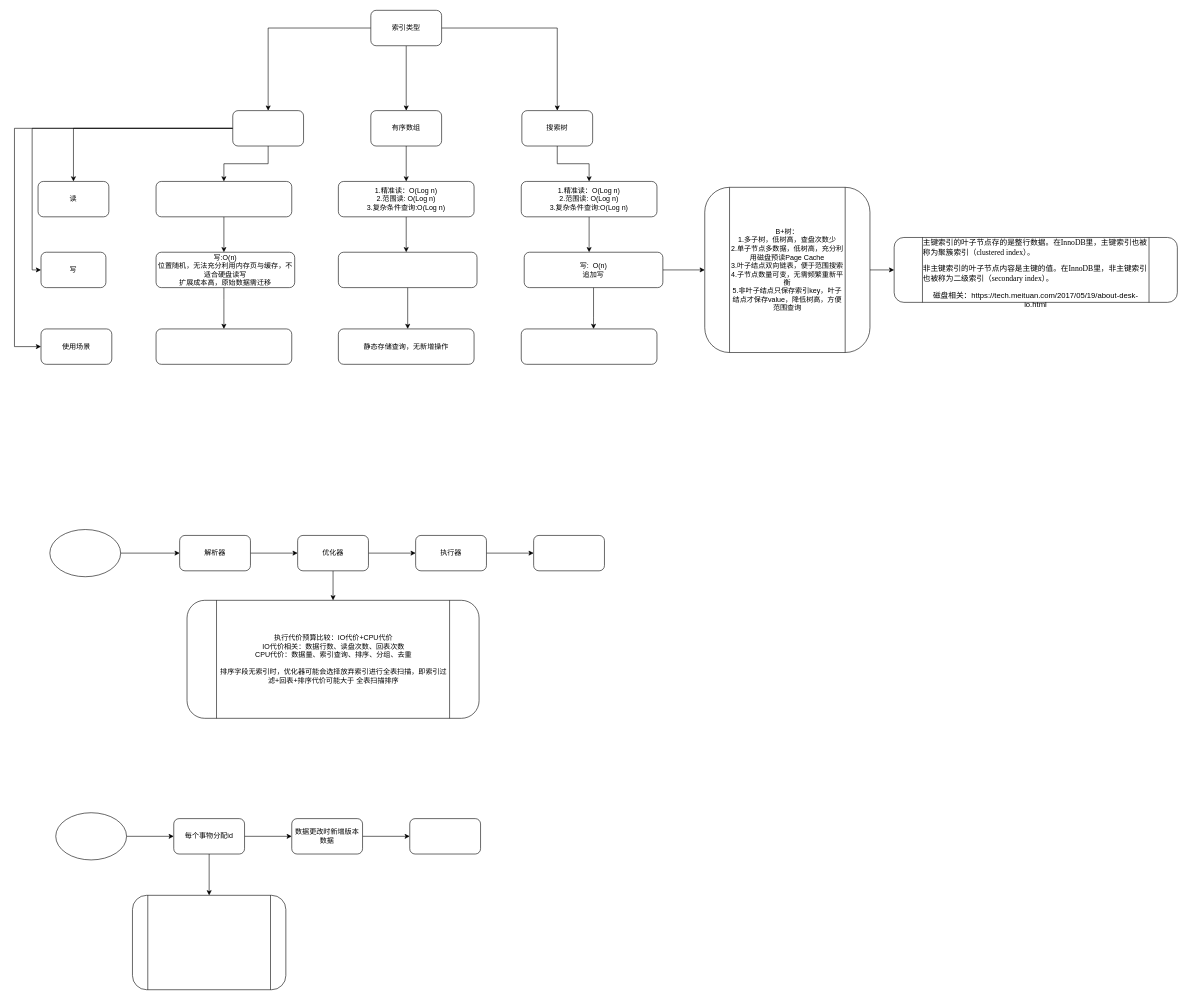
Image size: 1188x1000. Some labels were removed from this diagram. Here are the shapes that lost their labels. From the top down, the centre of each, then its label:
At (268,128): "哈希索引".
At (223,199): "1.精准读：O(n) 2.范围读:n * O(n) 3.复杂条件查询:O(n ² )".
At (407,270): "写 : n * O(Log n) 写入需要重新排序".
At (223,346): "等值查询，内存操作 Reids，Memcached".
At (589,346): "Top K问题".
At (85,553): "索引选择".
At (568,553): "查询结果".
At (91,836): "事务MVCC".
At (445,836): "根据隔离级别决定可读事物水位".
At (209,942): "innodb将所有事物id存在有序数组中 可重复度隔离：仅可查看低于自身水位已提交数据 读提交隔离：可查看最新提交事物的水位数据 读未提交隔离：可查看所有数据".
